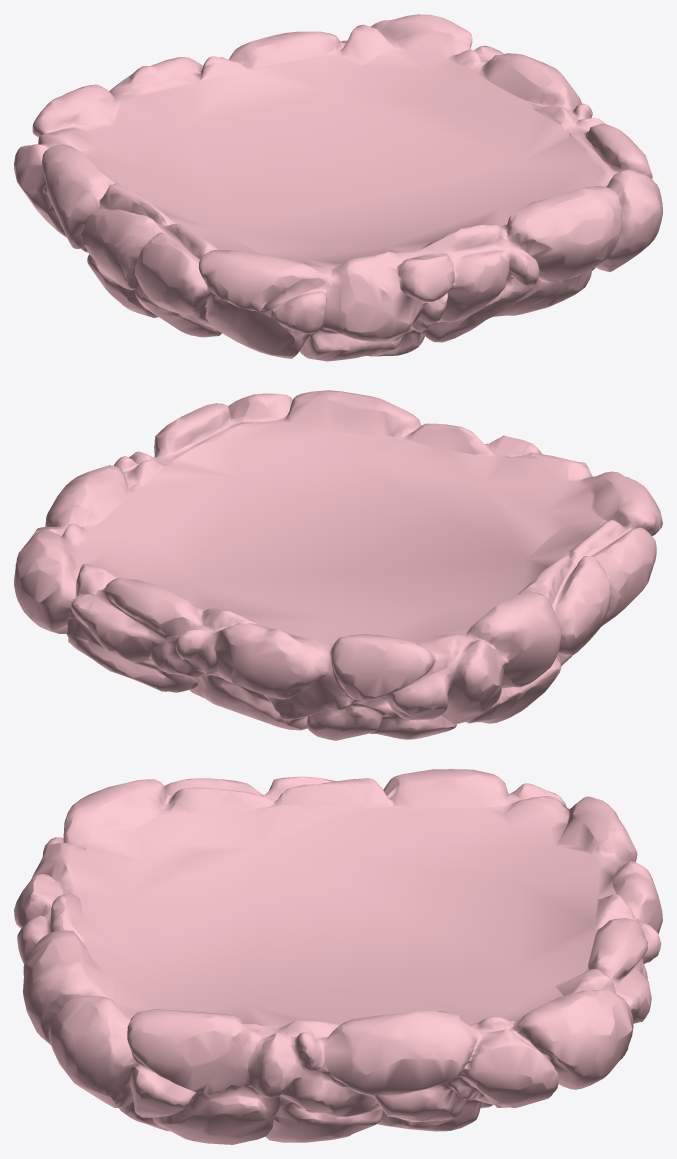
The model's file is island_6_LOD2.fbx.
3 views of the same model, one above another, from view 1: azimuth 30°, elevation 25°; view 2: azimuth 150°, elevation 25°; view 3: azimuth 270°, elevation 25° (orthographic). The views are drawn at different scales.
Visible parts, largest first — view 1: island_6_LOD2; view 2: island_6_LOD2; view 3: island_6_LOD2.
Boxes of the visible parts, x1,y1,x2,y2 form: island_6_LOD2: [14, 14, 662, 361]; island_6_LOD2: [14, 390, 662, 740]; island_6_LOD2: [14, 769, 662, 1144].
Size of the model in its own units: 2636 by 754 by 2586.
